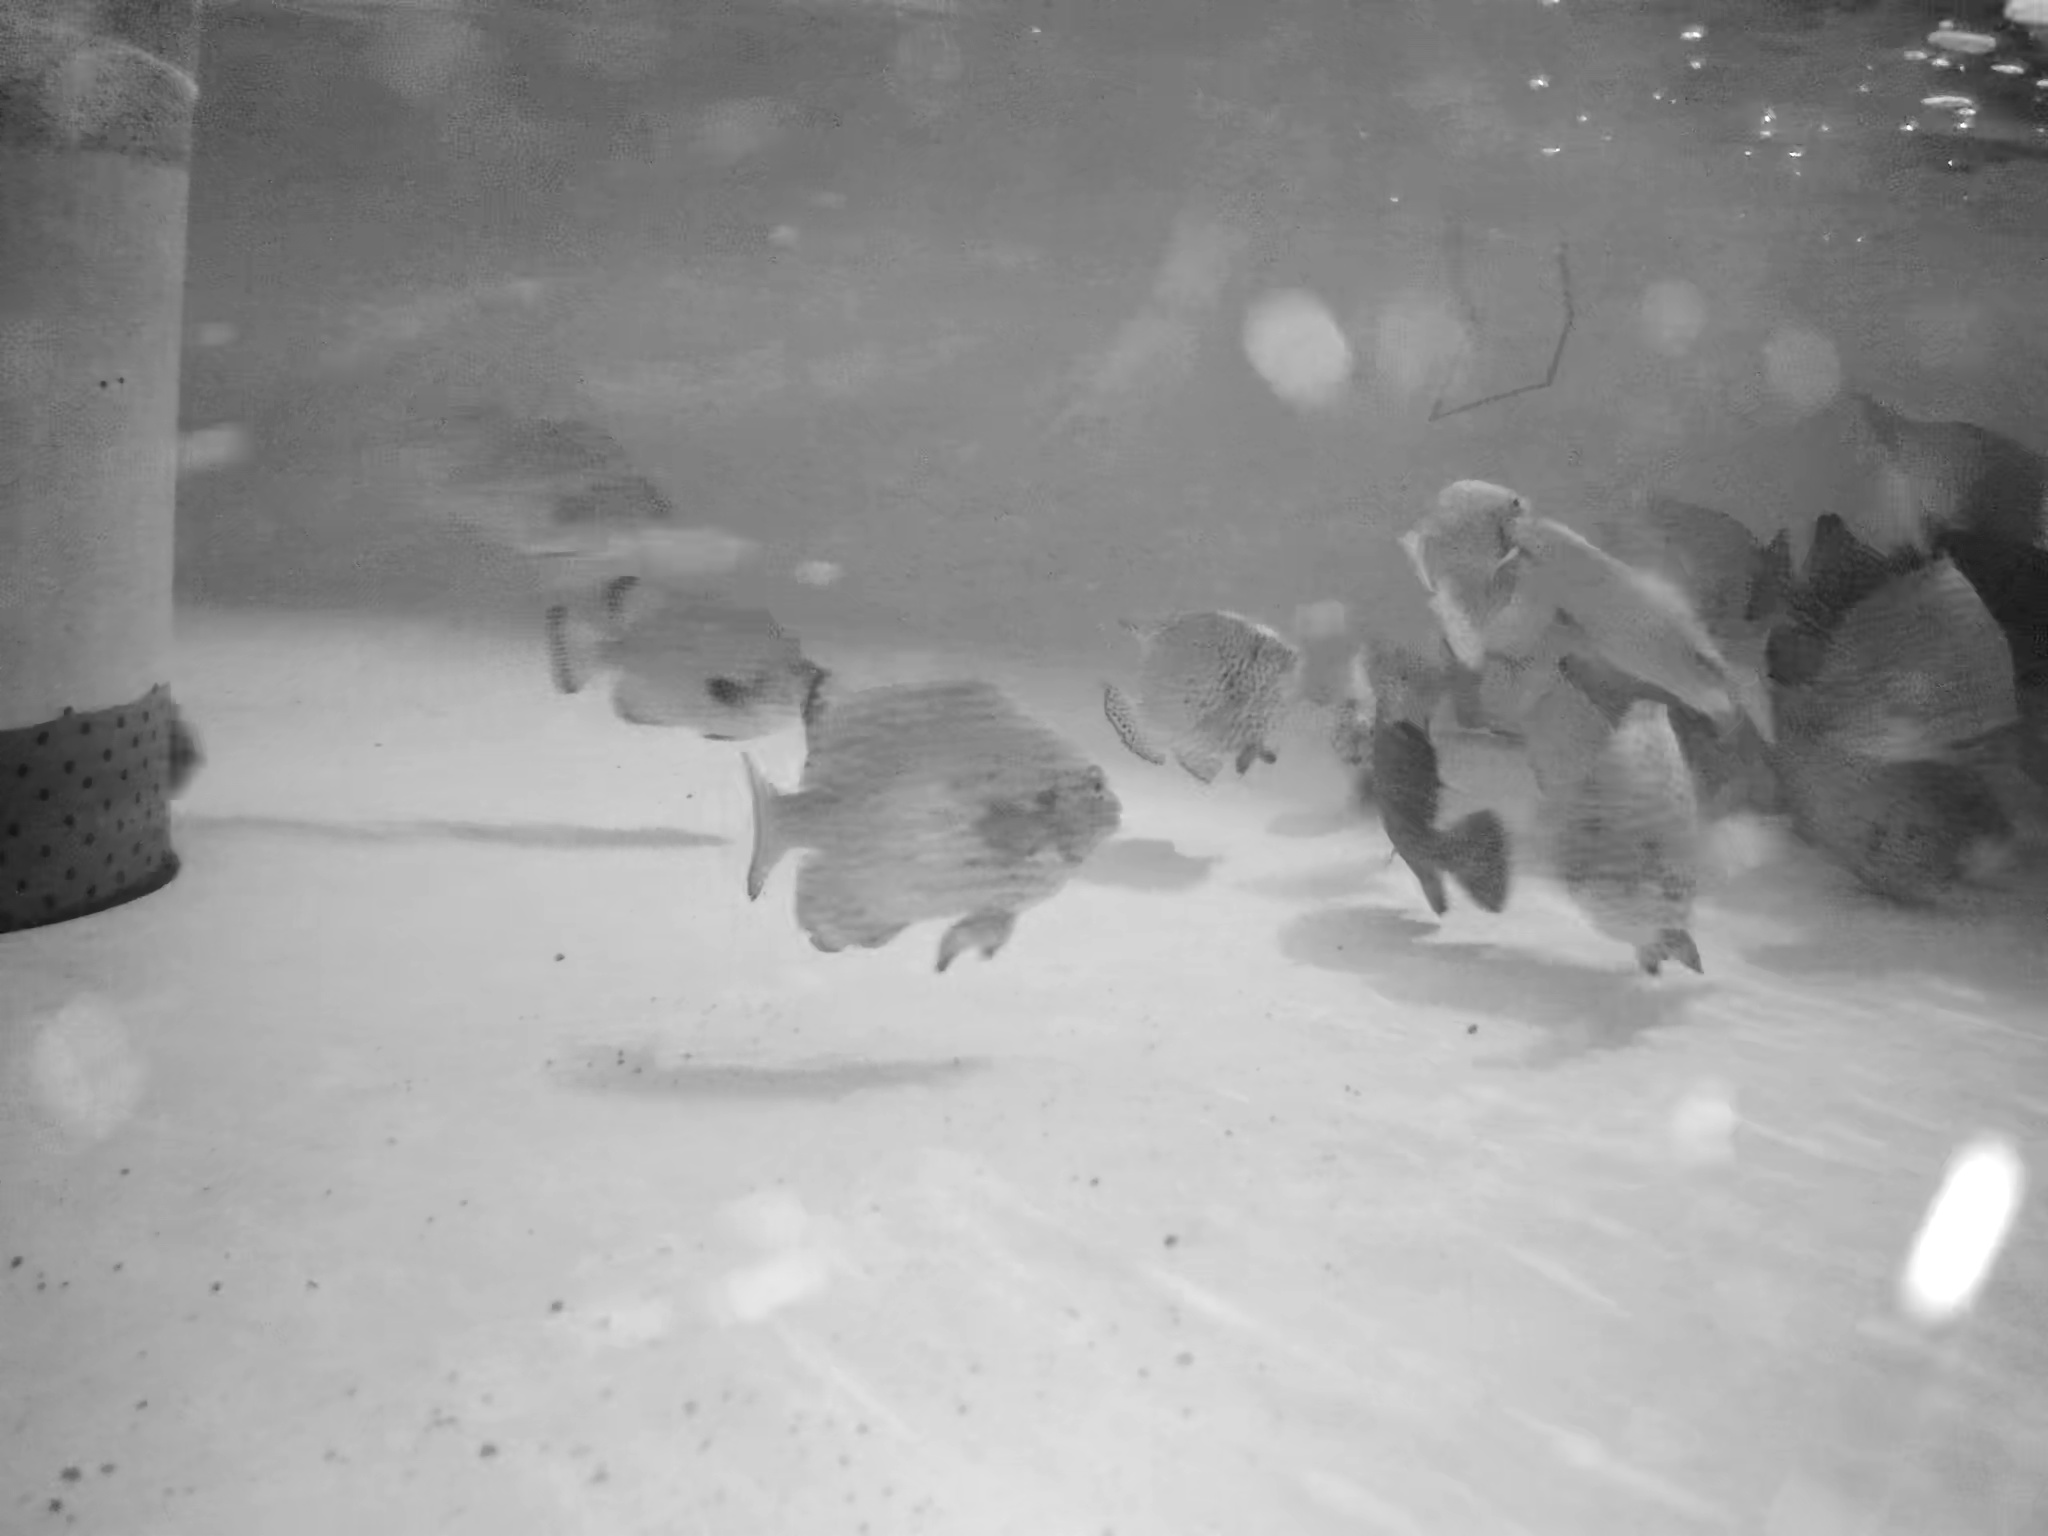fish: (713, 642, 1087, 970), (1529, 649, 1734, 992), (1666, 713, 2016, 899), (1755, 507, 2009, 731), (527, 578, 856, 741), (1084, 581, 1305, 800), (429, 392, 698, 570), (1405, 424, 1566, 695), (1837, 360, 2048, 560), (1338, 692, 1501, 929), (1637, 471, 1806, 642)
